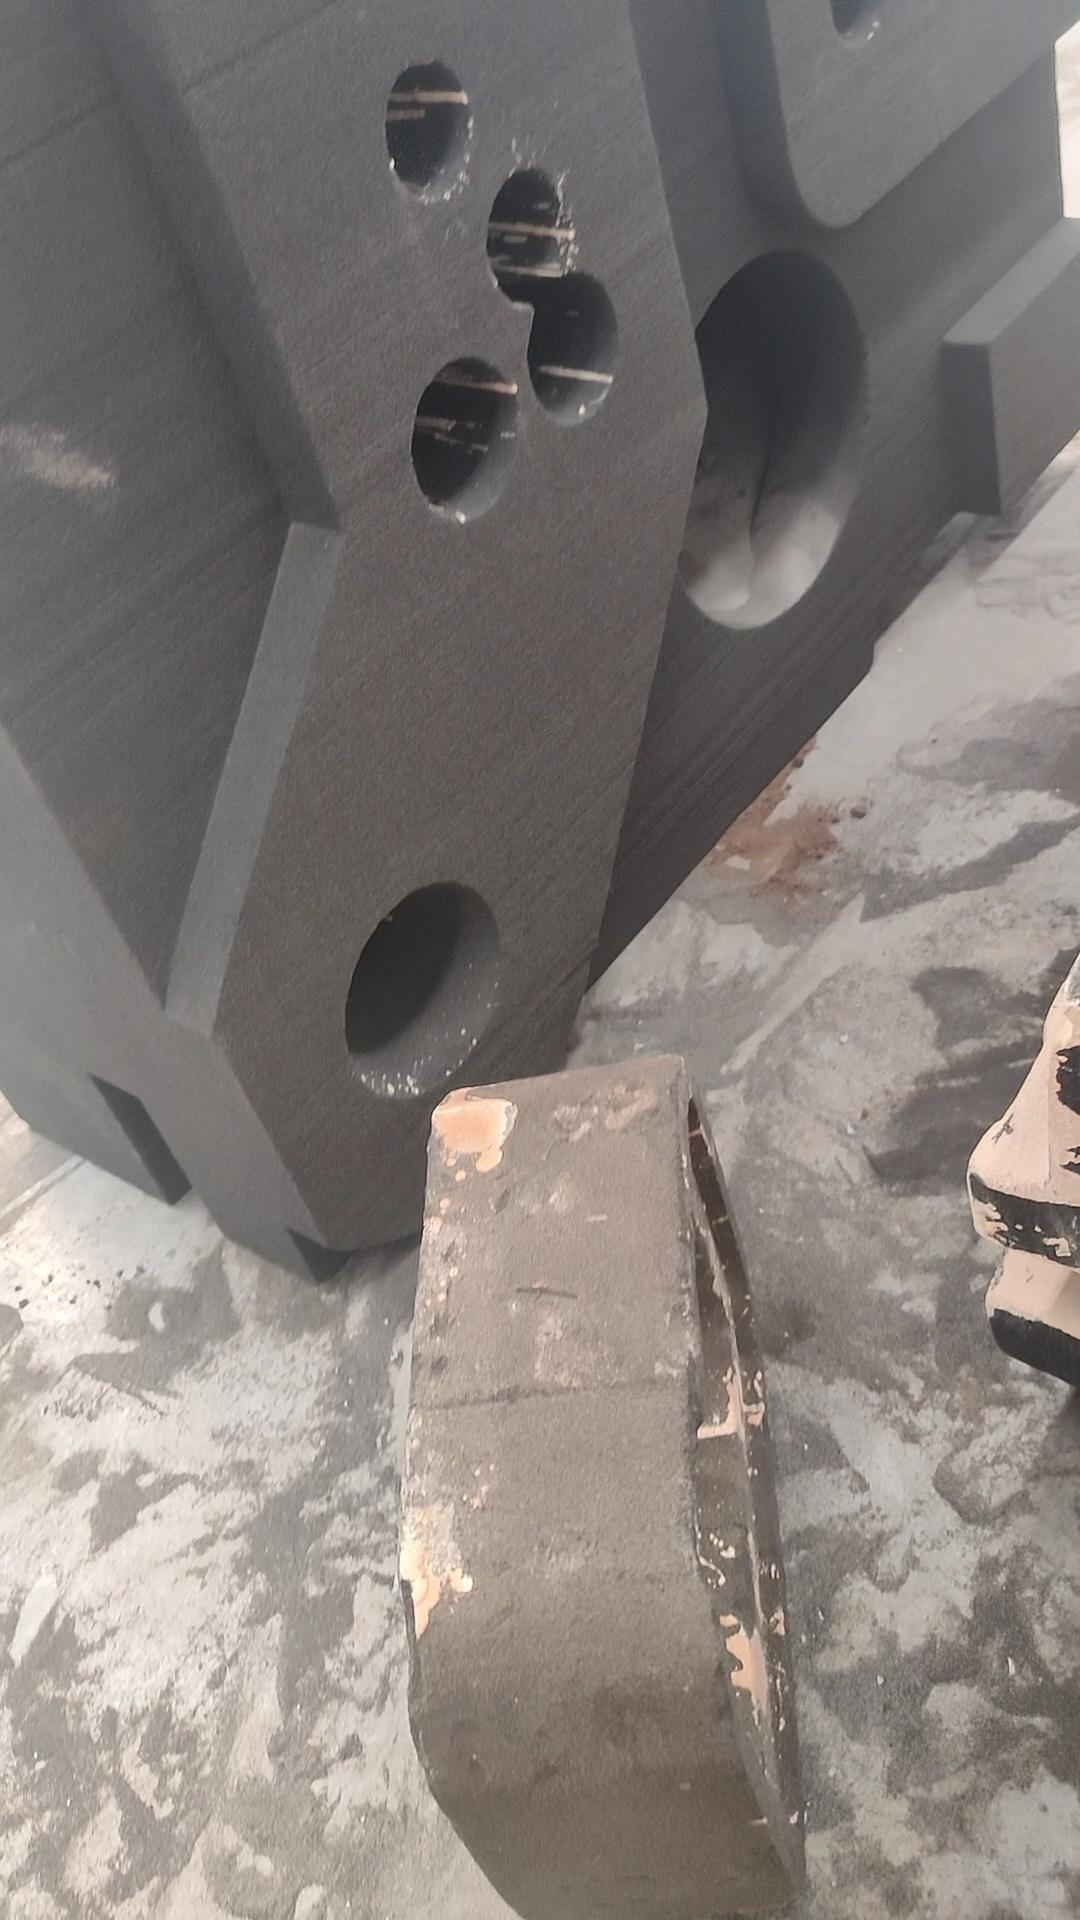pouring hole: (348, 880, 505, 1101)
